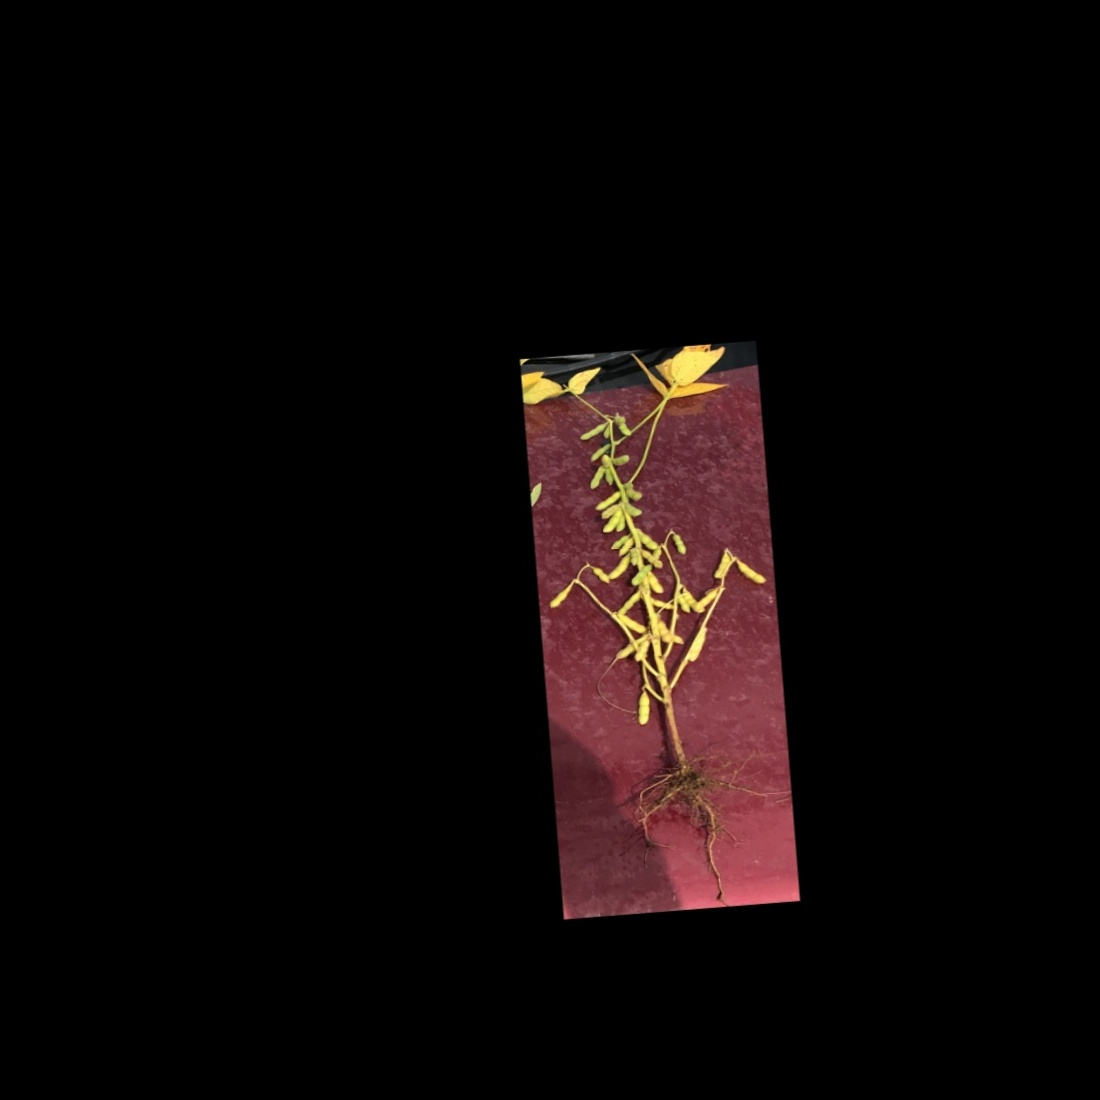pod: (734, 555, 767, 588), (575, 419, 612, 445), (688, 585, 722, 613), (708, 548, 735, 582), (545, 581, 575, 611), (632, 689, 655, 726), (614, 589, 644, 617), (618, 610, 651, 636), (682, 585, 707, 617), (593, 489, 625, 514), (642, 567, 667, 598), (599, 507, 625, 537), (585, 462, 609, 494), (643, 595, 680, 614), (606, 552, 631, 580), (637, 526, 662, 552), (586, 441, 613, 465), (587, 563, 614, 586), (671, 530, 690, 559), (606, 451, 633, 471)
soy: (529, 350, 792, 906)
